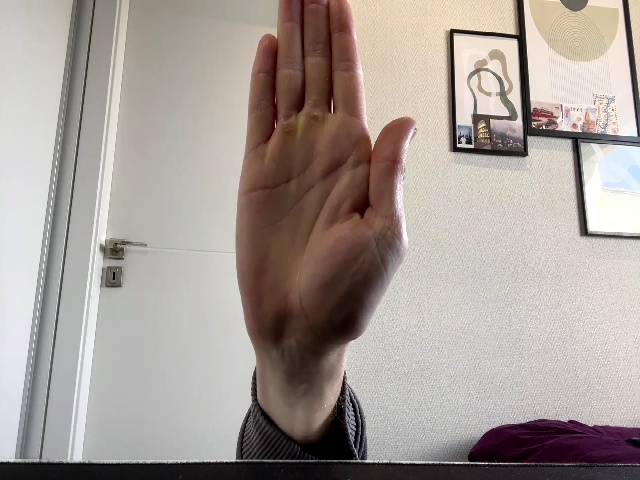B: (236, 1, 417, 373)
